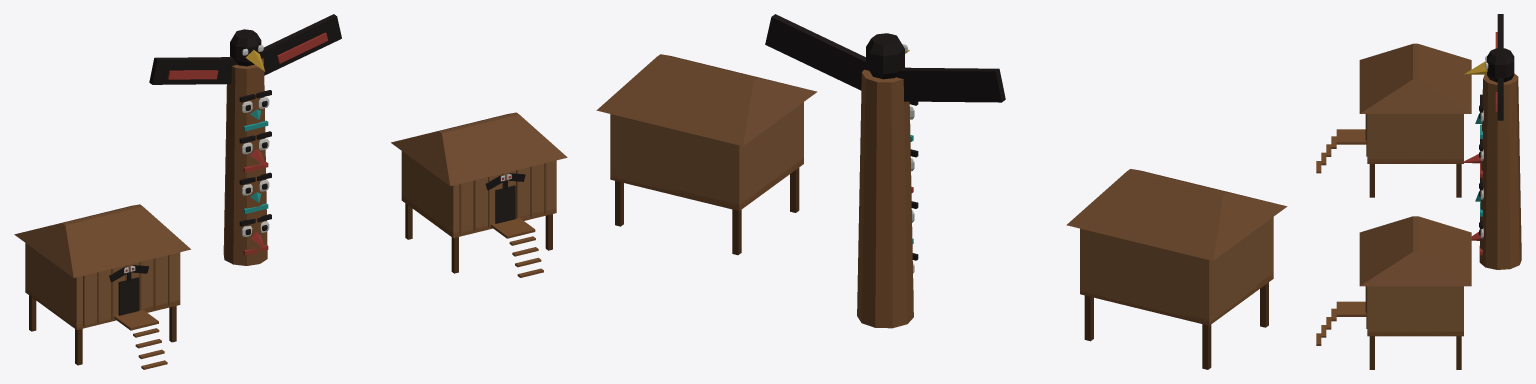
File: bird_court_broken.glb
The picture shows the model from 3 angles, left to right: view 1: azimuth 30°, elevation 25°; view 2: azimuth 150°, elevation 25°; view 3: azimuth 270°, elevation 25°; orthographic projection. The views are drawn at different scales.
Visible parts, largest first — view 1: bird_court_piece5, bird_court_piece3, bird_court_piece9, bird_court_piece0, bird_court_piece1, bird_court_piece11, bird_court_piece6, bird_court_piece8, bird_court_piece13, bird_court_piece2, bird_court_piece10, bird_court_piece12 (+1 smaller); view 2: bird_court_piece1, bird_court_piece3, bird_court_piece4, bird_court_piece2, bird_court_piece10, bird_court_piece11, bird_court_piece7, bird_court_piece9, bird_court_piece12, bird_court_piece5, bird_court_piece0; view 3: bird_court_piece1, bird_court_piece5, bird_court_piece4, bird_court_piece9, bird_court_piece2, bird_court_piece12, bird_court_piece6, bird_court_piece13, bird_court_piece10, bird_court_piece8, bird_court_piece3, bird_court_piece11 (+1 smaller).
Boxes of the visible parts, x1,y1,x2,y2 form: bird_court_piece5: [65, 204, 190, 289]; bird_court_piece3: [391, 130, 475, 273]; bird_court_piece9: [223, 139, 271, 265]; bird_court_piece0: [60, 248, 130, 340]; bird_court_piece1: [426, 112, 567, 250]; bird_court_piece11: [149, 29, 265, 108]; bird_court_piece6: [443, 125, 537, 247]; bird_court_piece8: [452, 147, 543, 277]; bird_court_piece13: [119, 270, 180, 369]; bird_court_piece2: [224, 63, 271, 198]; bird_court_piece10: [14, 216, 88, 321]; bird_court_piece12: [244, 14, 341, 75]; bird_court_piece1: [596, 54, 727, 226]; bird_court_piece3: [679, 75, 817, 255]; bird_court_piece4: [1066, 182, 1181, 341]; bird_court_piece2: [858, 61, 918, 272]; bird_court_piece10: [1139, 190, 1270, 287]; bird_court_piece11: [875, 33, 1005, 113]; bird_court_piece7: [1164, 264, 1268, 369]; bird_court_piece9: [857, 166, 918, 328]; bird_court_piece12: [765, 14, 880, 105]; bird_court_piece5: [1115, 169, 1254, 216]; bird_court_piece0: [1238, 194, 1287, 293]; bird_court_piece1: [1359, 227, 1471, 369]; bird_court_piece5: [1359, 47, 1450, 157]; bird_court_piece4: [1393, 80, 1471, 197]; bird_court_piece9: [1461, 144, 1521, 269]; bird_court_piece2: [1475, 71, 1520, 218]; bird_court_piece12: [1484, 54, 1517, 120]; bird_court_piece6: [1327, 219, 1438, 328]; bird_court_piece13: [1316, 114, 1394, 197]; bird_court_piece10: [1401, 43, 1471, 82]; bird_court_piece8: [1316, 230, 1394, 345]; bird_court_piece3: [1359, 216, 1471, 247]; bird_court_piece11: [1464, 14, 1514, 97].
Size of the model in its own units: 6.3 by 2.71 by 2.42.
